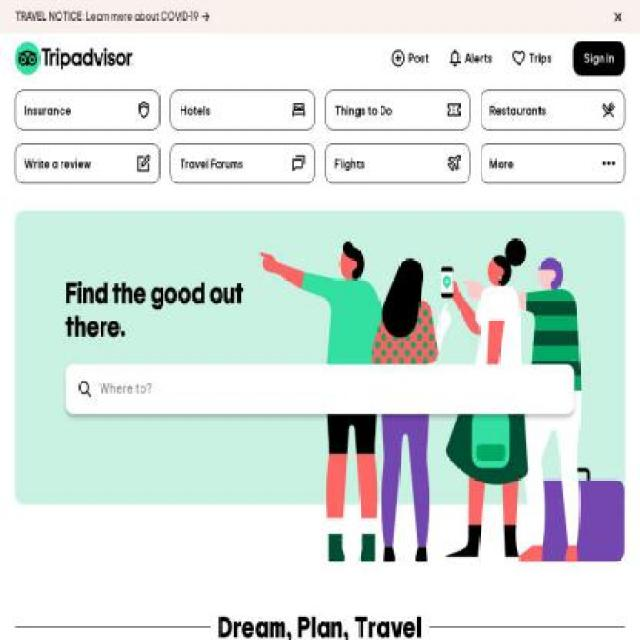button: (15, 90, 160, 130), (170, 90, 315, 130), (325, 90, 470, 130), (480, 90, 625, 130), (15, 143, 160, 183), (170, 143, 315, 183), (325, 143, 470, 183), (480, 143, 625, 183), (440, 41, 500, 76), (504, 41, 559, 76), (383, 41, 437, 76), (573, 41, 625, 76)
field: (73, 364, 567, 414)
